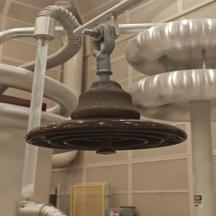insulator: (20, 73, 195, 162)
